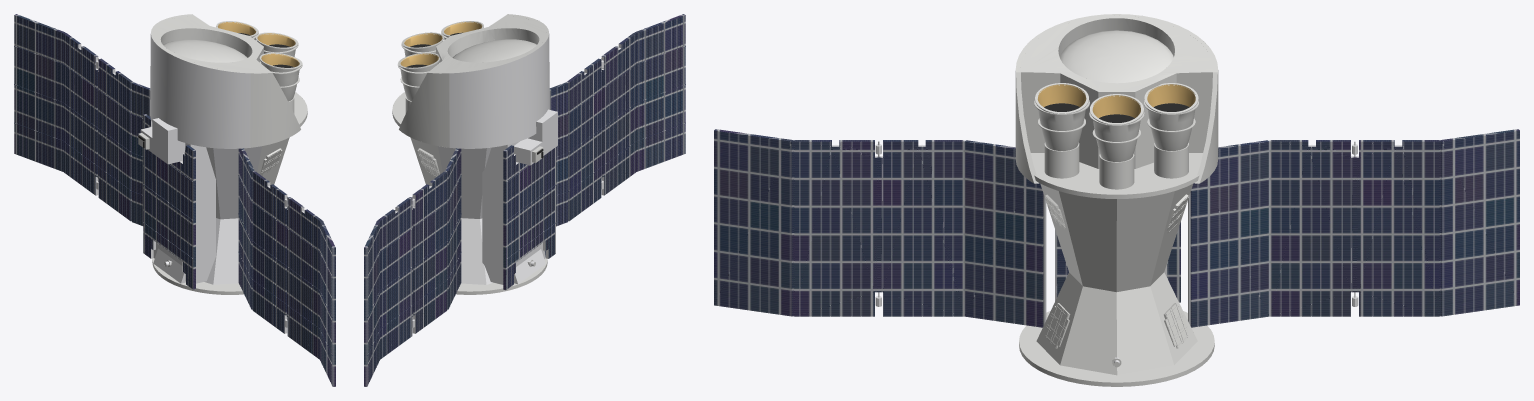
The model's file is swas.glb.
3 renders of one model, left to right at view 1: azimuth 30°, elevation 25°; view 2: azimuth 150°, elevation 25°; view 3: azimuth 270°, elevation 25°, orthographic. The views are drawn at different scales.
Visible parts, largest first — view 1: <LWODefault>; view 2: <LWODefault>; view 3: <LWODefault>.
Part boxes in pixels (<box>): <LWODefault>: <box>14,14,335,386</box>; <LWODefault>: <box>364,14,685,386</box>; <LWODefault>: <box>714,14,1519,386</box>.
Bounding box in the file's own units: 1.09 × 1.63 × 4.11.
6 materials, 1 textured.
